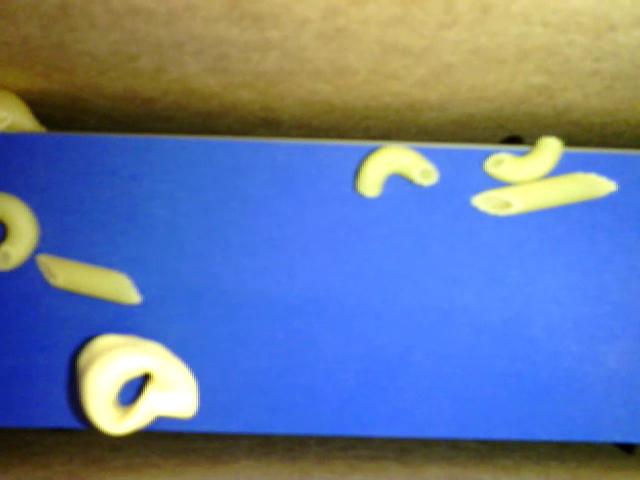elbow: (349, 131, 442, 206), (477, 121, 565, 183), (1, 187, 45, 272)
penne: (469, 167, 622, 219), (32, 253, 156, 306)
shell: (2, 82, 54, 139)
tortellini: (68, 330, 208, 440)
